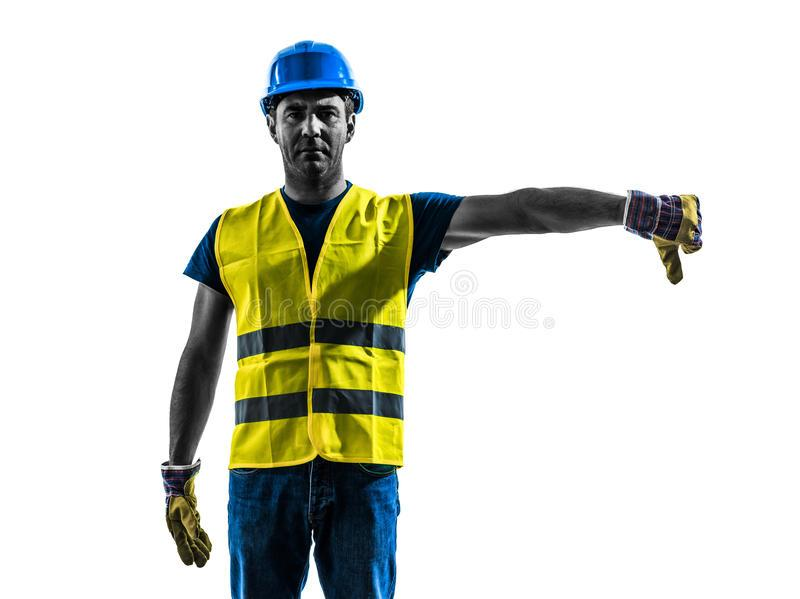helmet: (261, 40, 368, 120)
